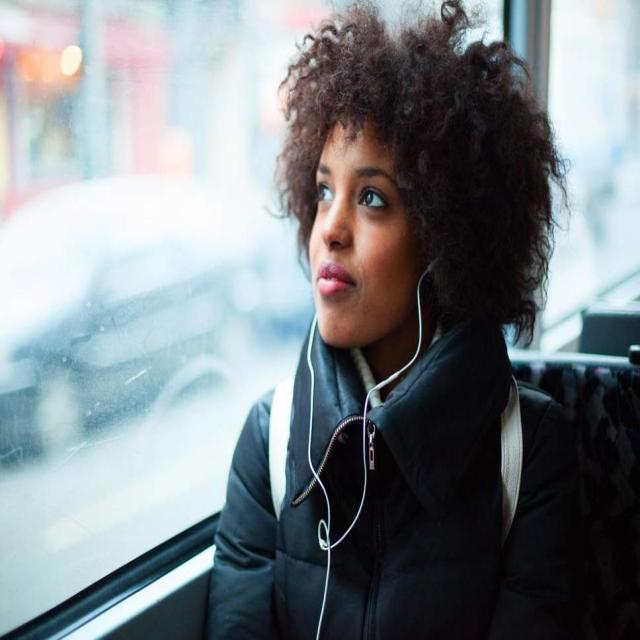mobile_phonerotation: (290, 255, 440, 637)
